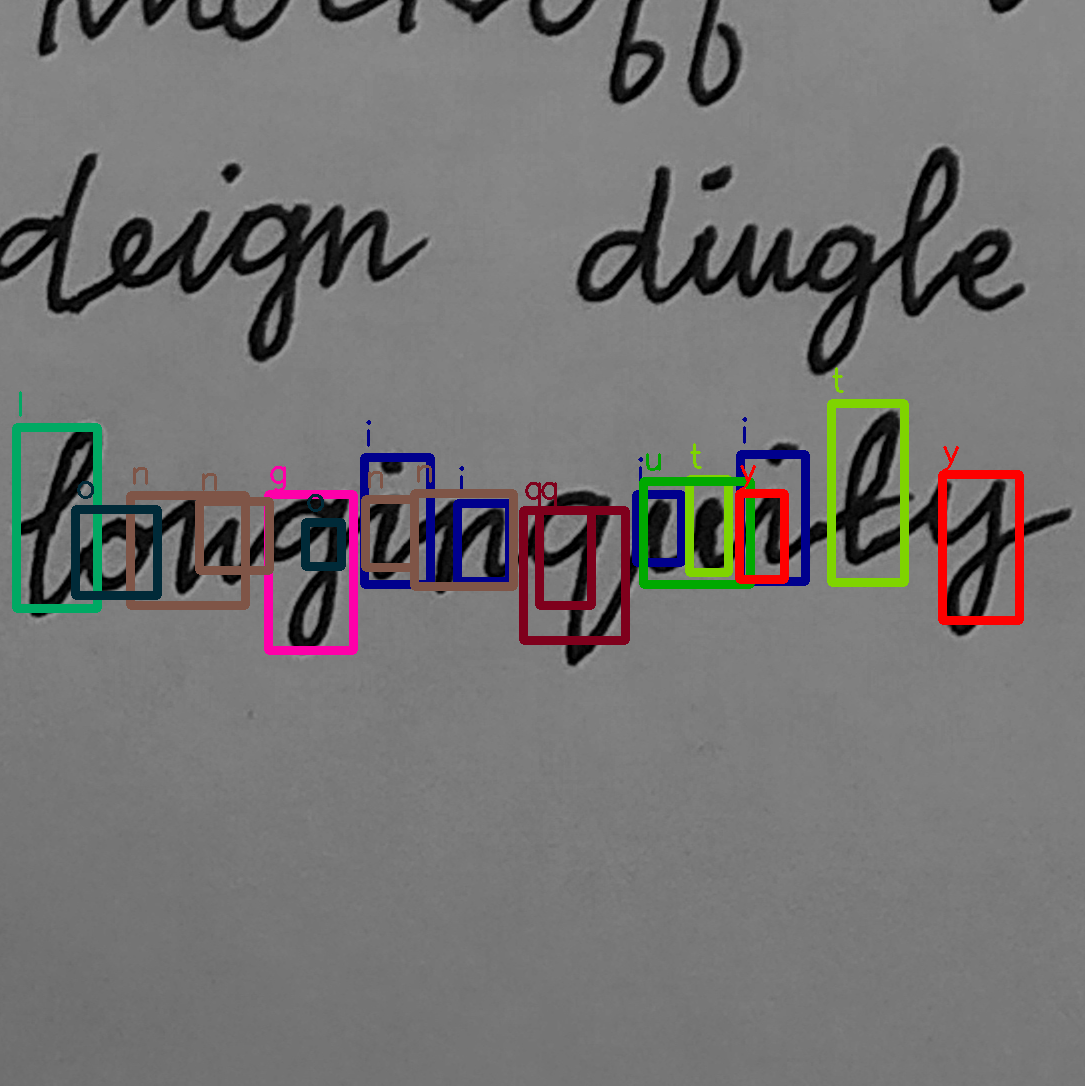g: (255, 487, 360, 656)
i: (746, 433, 806, 575), (363, 449, 414, 586)
l: (17, 419, 108, 619)
n: (425, 493, 517, 600), (164, 492, 246, 601)
o: (78, 512, 155, 595)
q: (521, 484, 620, 671)
t: (834, 405, 920, 567)
u: (638, 492, 728, 581)
y: (923, 471, 1012, 642)
